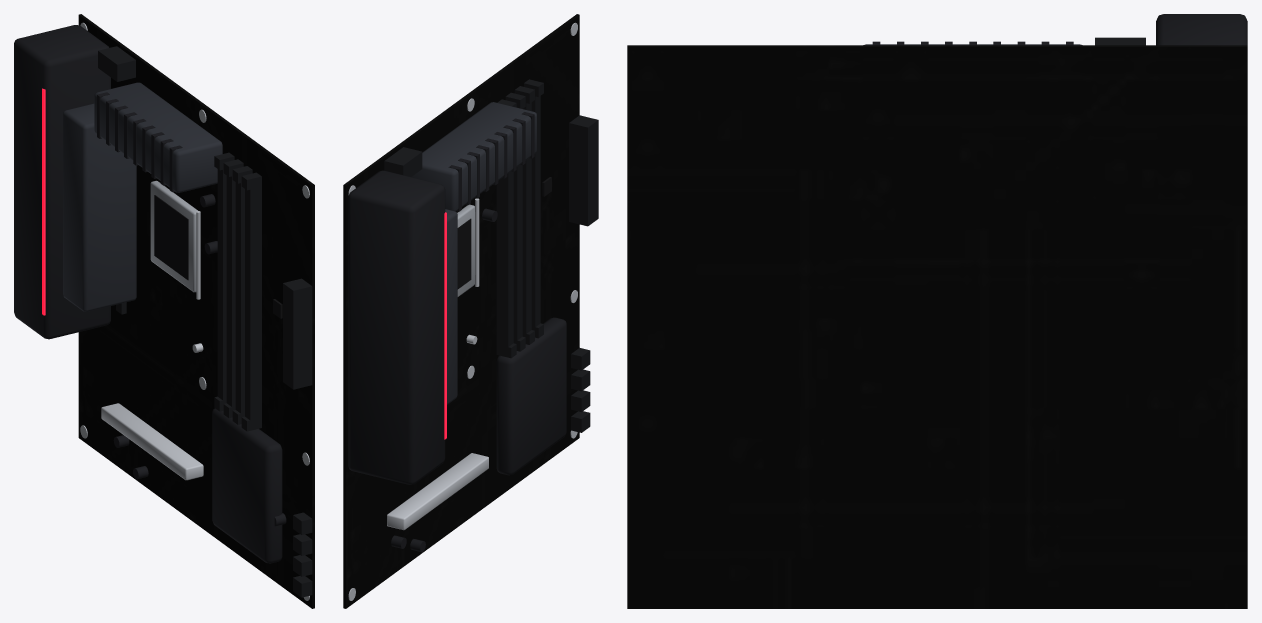
The model's file is board-matx.glb.
The picture shows the model from 3 angles, left to right: view 1: azimuth 30°, elevation 25°; view 2: azimuth 150°, elevation 25°; view 3: azimuth 270°, elevation 25°; orthographic projection. The views are drawn at different scales.
Parts seen in each view (by area): view 1: board_matx_pcb; view 2: board_matx_pcb; view 3: board_matx_pcb.
Boxes of the visible parts, <box> form: board_matx_pcb: <box>14,14,314,608</box>; board_matx_pcb: <box>343,14,598,608</box>; board_matx_pcb: <box>627,14,1247,608</box>.
Size of the model in its own units: 0.0425 by 0.244 by 0.244.
8 materials, 1 textured.
